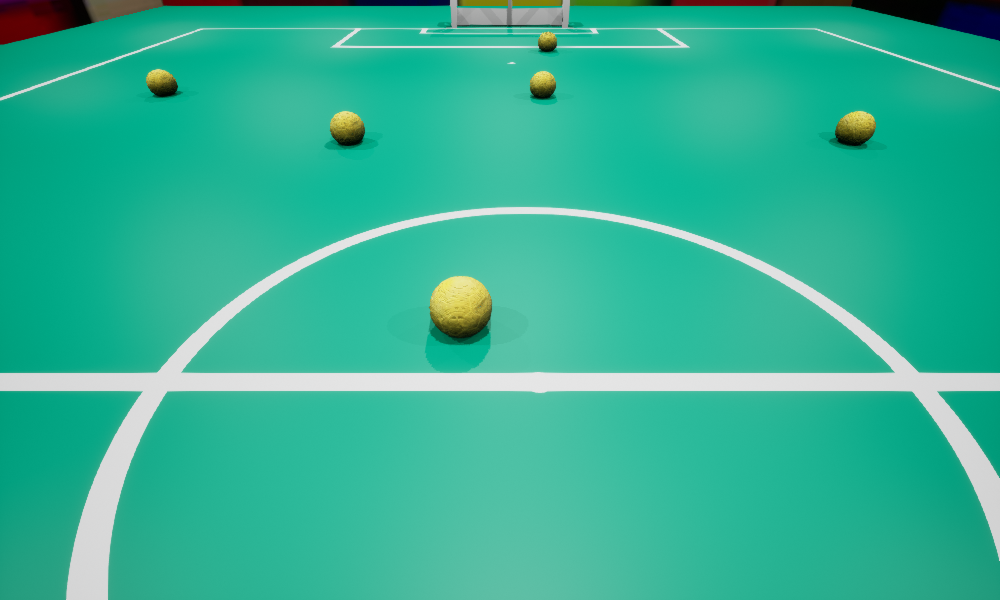b: (429, 276, 491, 337), (835, 111, 875, 144), (330, 111, 364, 144), (146, 69, 177, 95), (530, 71, 555, 97), (538, 31, 556, 51)
g: (450, 0, 569, 27)
